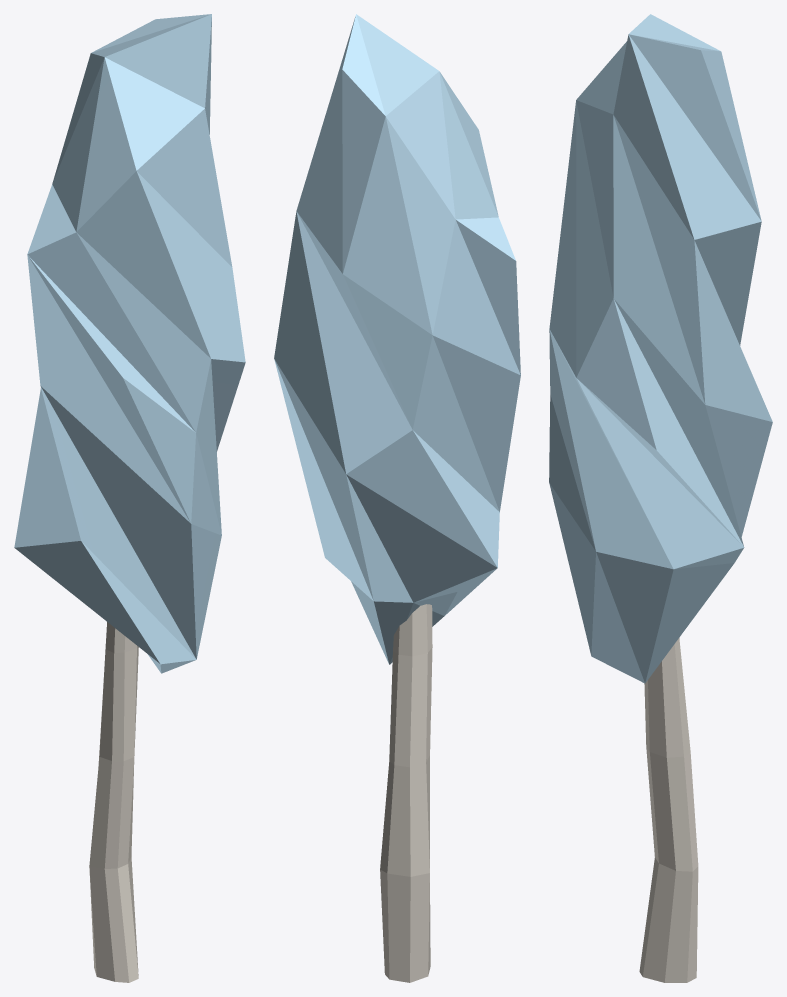
Rendered from Tree_blue.FBX.
The picture shows the model from 3 angles, left to right: view 1: azimuth 30°, elevation 25°; view 2: azimuth 150°, elevation 25°; view 3: azimuth 270°, elevation 25°; orthographic projection. The views are drawn at different scales.
Parts seen in each view (by area): view 1: blue; view 2: blue; view 3: blue.
Part boxes in pixels (x1,y1,x2,y2): blue: [14, 14, 245, 982]; blue: [274, 14, 520, 982]; blue: [549, 14, 772, 982].
Size of the model in its own units: 65.66 by 270 by 55.99.
